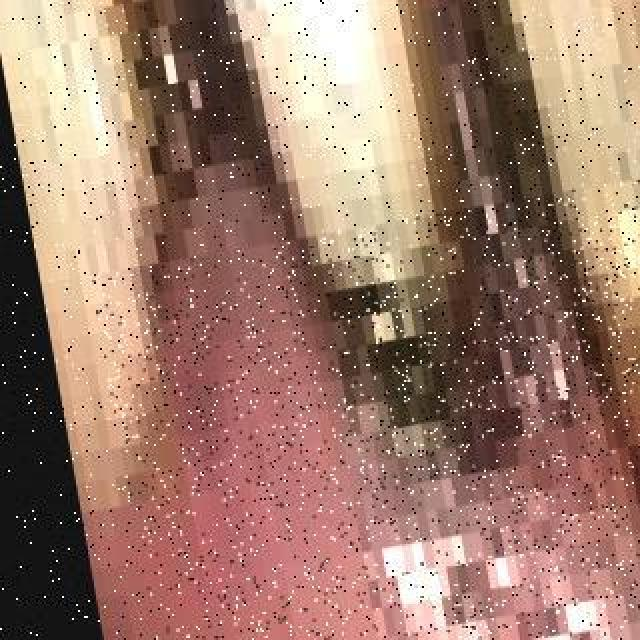calculus: (214, 0, 474, 532), (44, 0, 328, 308), (552, 24, 640, 624)
